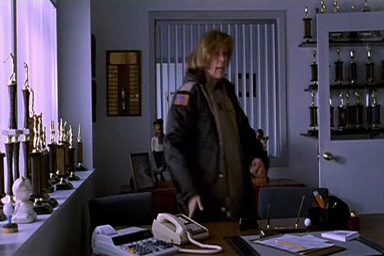face: (210, 49, 230, 79)
mls: (1, 1, 384, 256)
person: (163, 30, 271, 218)
